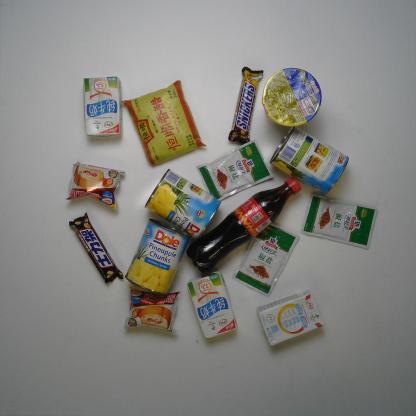Canned Food: (144, 166, 221, 238), (273, 124, 348, 194), (126, 218, 191, 294)
Chocolate: (68, 212, 124, 282), (228, 66, 263, 145)
Dessert: (125, 284, 181, 337), (68, 160, 127, 209)
Drink: (186, 177, 302, 276)
Instant Noodles: (261, 70, 322, 127)
Milk: (258, 291, 323, 348), (186, 271, 240, 338), (80, 75, 124, 139)
Seasoner: (120, 80, 205, 165), (235, 224, 298, 298), (199, 142, 272, 205), (302, 193, 379, 249)
